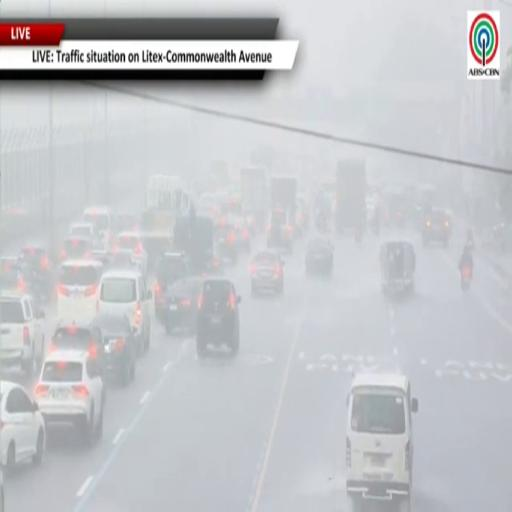car: (346, 374, 418, 511), (35, 350, 105, 445), (98, 269, 152, 353), (0, 380, 46, 470), (0, 293, 44, 376), (196, 277, 241, 358), (50, 317, 106, 376), (93, 314, 137, 386), (57, 260, 103, 318), (154, 252, 190, 319), (161, 277, 201, 334), (18, 246, 55, 300), (0, 258, 40, 299), (251, 250, 284, 295), (113, 232, 147, 275), (82, 206, 115, 249), (422, 208, 452, 247), (305, 236, 333, 276), (216, 223, 239, 264), (69, 221, 103, 248), (60, 236, 94, 261), (229, 215, 250, 252), (109, 251, 137, 268), (116, 213, 139, 232)
motorcycle: (461, 266, 471, 291), (354, 228, 362, 246)
truck: (141, 175, 191, 267), (173, 212, 214, 274), (335, 159, 366, 233), (267, 176, 297, 251), (240, 166, 267, 232), (271, 176, 297, 228)
